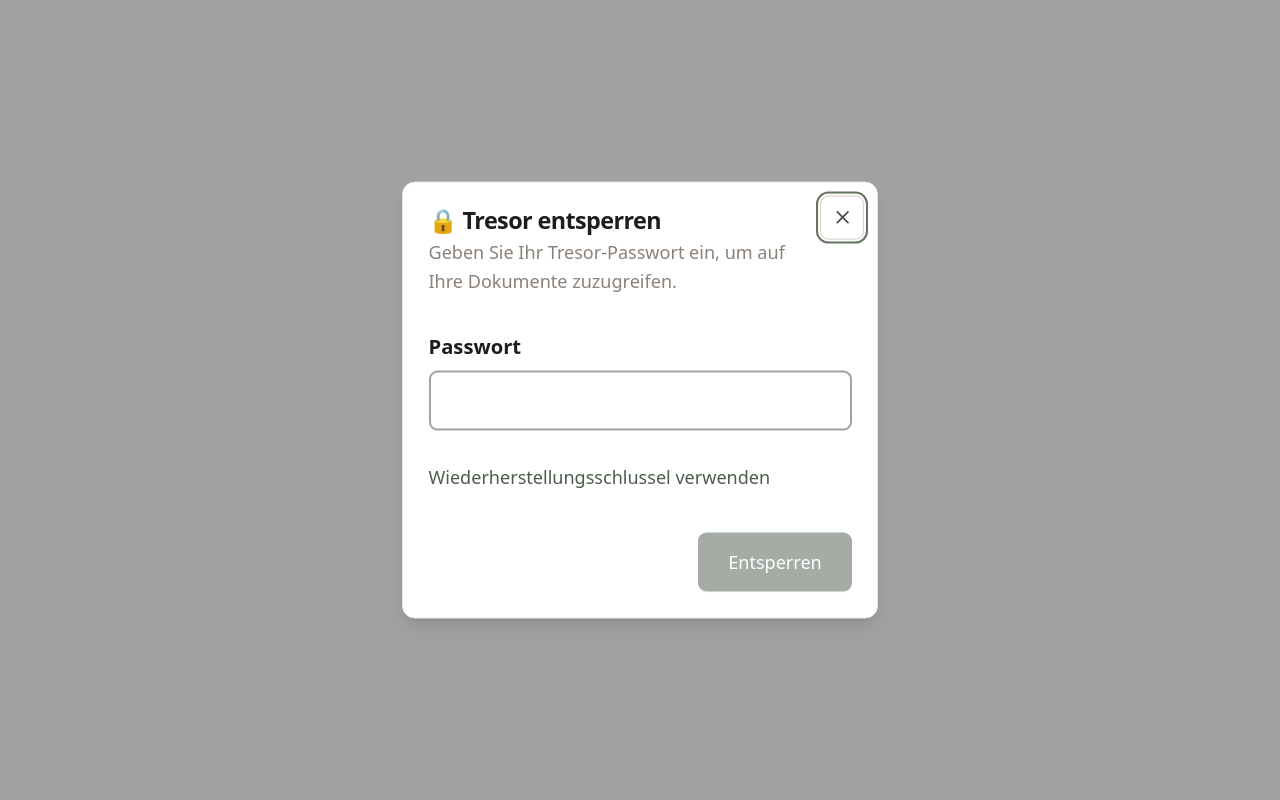
it: VaultUnlockModal › VaultUnlock.Recovery renders recovery form
Click the button "Wiederherstellungsschlussel verwenden". click: (599, 477)
box: [428,447,770,507]
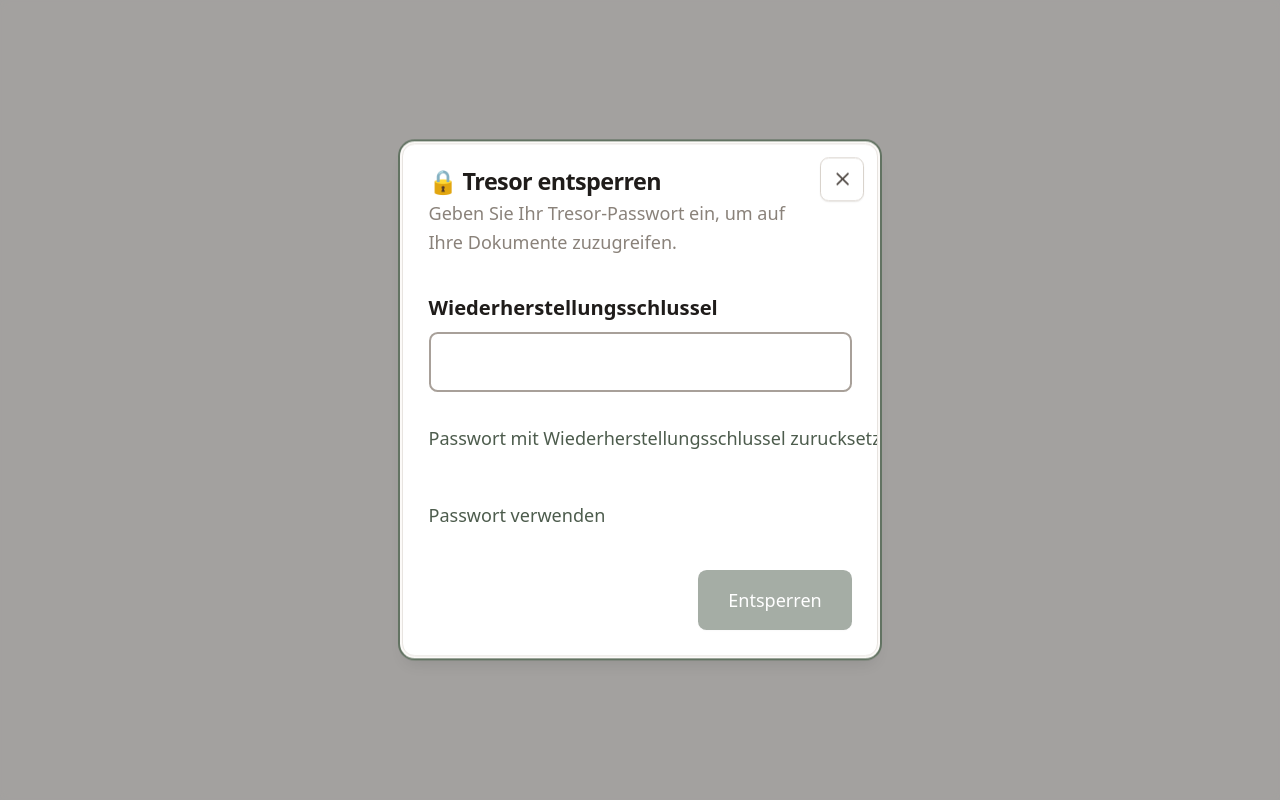
expect the field labelled "Wiederherstellungsschlussel" is shown: met, box [428,333,852,392]
